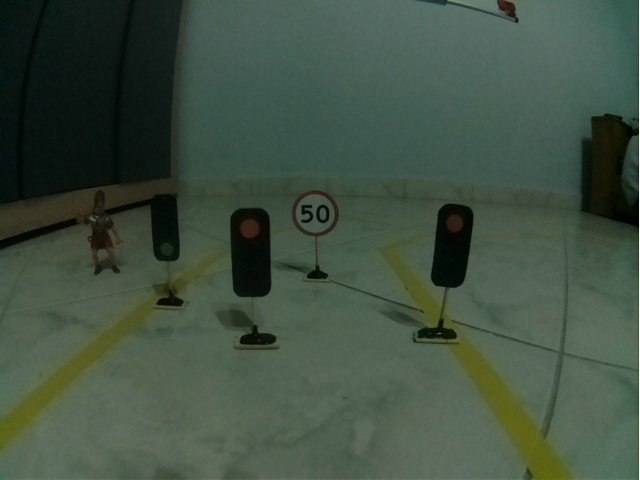Green Traffic Light: (149, 192, 181, 262)
Person: (74, 189, 125, 275)
Red Traffic Light: (230, 207, 272, 297), (431, 203, 474, 289)
Speed Limit 50: (291, 190, 341, 236)
